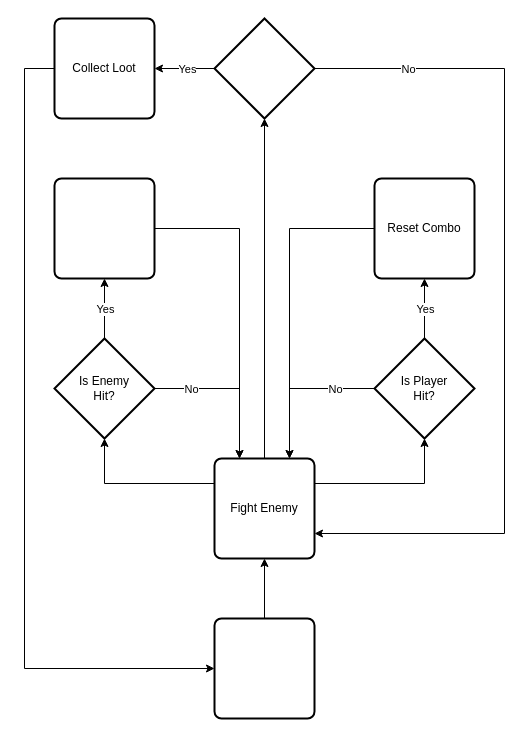
Some shapes in this 530 by 736 pixel diagram are drawn without their labels. The shapes that lost their labels are listed below. From the top down, each one's centre as x and y in pixels, then its label:
At point 264,68: "Is Room Clear?".
At point 104,228: "Increase Combo".
At point 264,668: "Enter Room".
